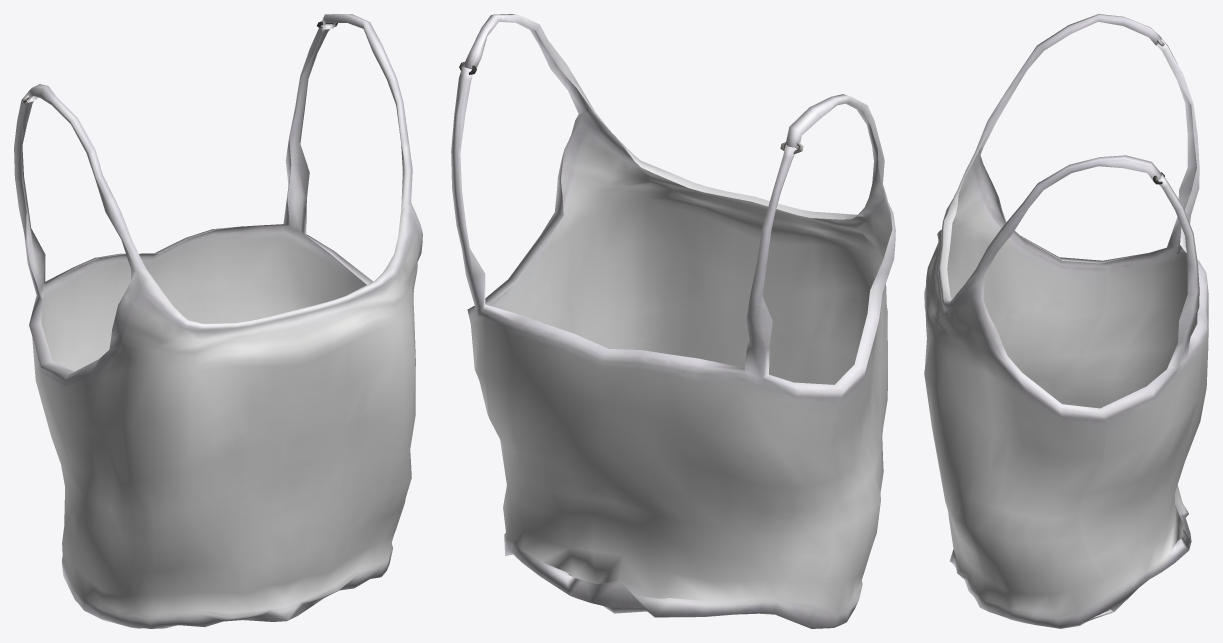
The model's file is punkduck-spaghetti-strap-tank-top.glb.
3 renders of one model, left to right at view 1: azimuth 30°, elevation 25°; view 2: azimuth 150°, elevation 25°; view 3: azimuth 270°, elevation 25°, orthographic. The views are drawn at different scales.
Parts seen in each view (by area): view 1: Human.punkduck_spaghetti_strap_tank_top; view 2: Human.punkduck_spaghetti_strap_tank_top; view 3: Human.punkduck_spaghetti_strap_tank_top.
Part boxes in pixels (bbox=[...]): Human.punkduck_spaghetti_strap_tank_top: bbox=[14, 14, 422, 628]; Human.punkduck_spaghetti_strap_tank_top: bbox=[451, 14, 895, 628]; Human.punkduck_spaghetti_strap_tank_top: bbox=[924, 14, 1208, 628].
Size of the model in its own units: 0.3389 by 0.49 by 0.2641.
Materials: 1 (1 with a texture image).
